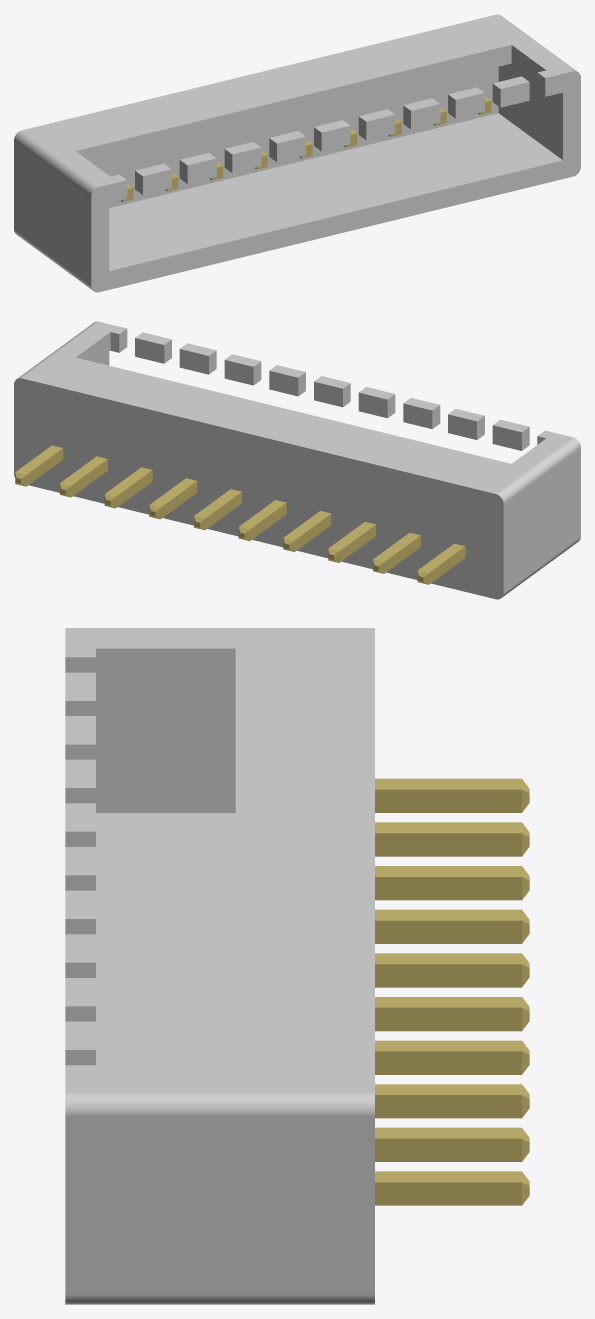
The model's file is jst_ph_10pin.glb.
3 views of the same model, one above another, from view 1: azimuth 30°, elevation 25°; view 2: azimuth 150°, elevation 25°; view 3: azimuth 270°, elevation 25° (orthographic). The views are drawn at different scales.
Visible parts, largest first — view 1: world; view 2: world; view 3: world.
Boxes of the visible parts, x1,y1,x2,y2 form: world: (14,14,580,292); world: (14,321,580,599); world: (65,628,529,1304).
Bounding box in the file's own units: 21.9 × 4.5 × 9.
